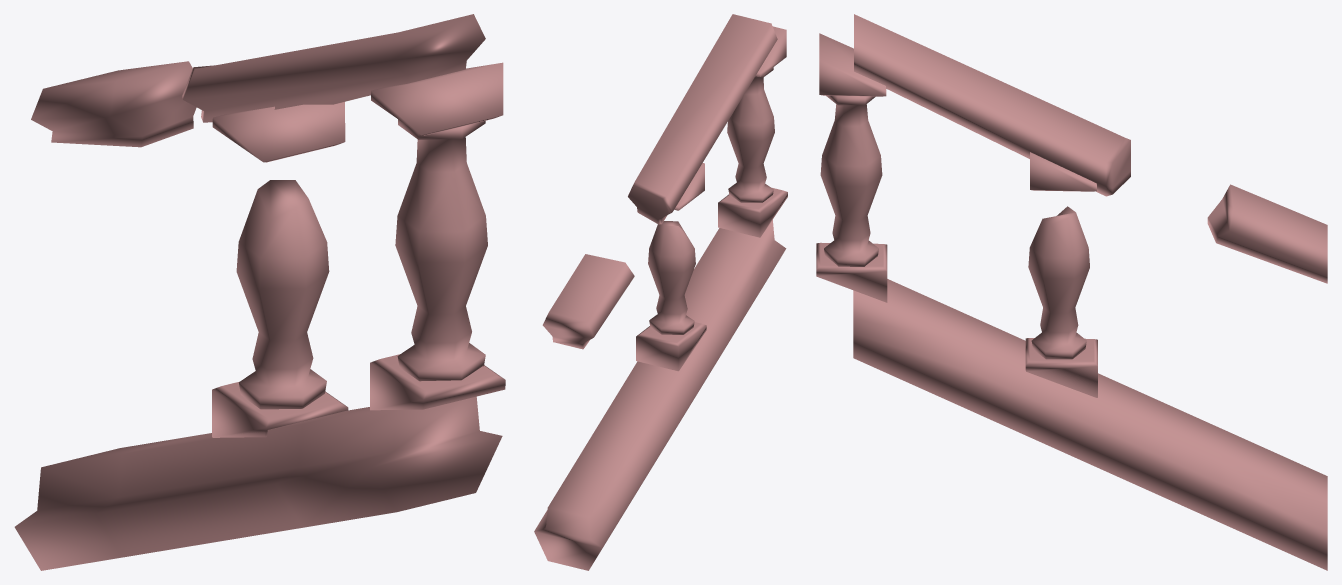
File: Stone_Baluster_D_01_Lod0.fbx
The picture shows the model from 3 angles, left to right: view 1: azimuth 30°, elevation 25°; view 2: azimuth 150°, elevation 25°; view 3: azimuth 270°, elevation 25°; orthographic projection. The views are drawn at different scales.
Visible parts, largest first — view 1: Stone_Baluster_D_01_Lod0; view 2: Stone_Baluster_D_01_Lod0; view 3: Stone_Baluster_D_01_Lod0.
Boxes of the visible parts, box(x1,y1,x2,y2) form: Stone_Baluster_D_01_Lod0: box(14, 14, 505, 570); Stone_Baluster_D_01_Lod0: box(534, 14, 787, 570); Stone_Baluster_D_01_Lod0: box(816, 14, 1327, 570).
Size of the model in its own units: 32.21 by 186 by 162.
